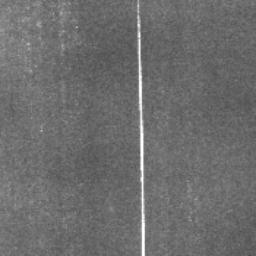Bright scratch: (137, 0, 146, 256)
